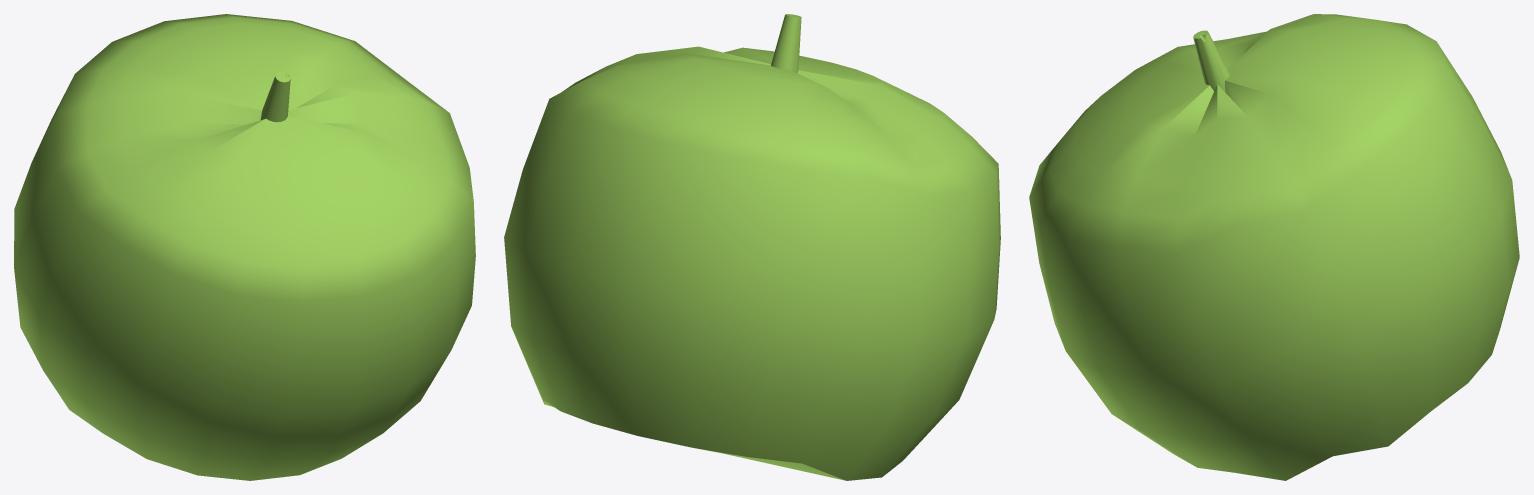
File: Apple.fbx
3 renders of one model, left to right at view 1: azimuth 30°, elevation 25°; view 2: azimuth 150°, elevation 25°; view 3: azimuth 270°, elevation 25°, orthographic. The views are drawn at different scales.
Visible parts, largest first — view 1: Apple12; view 2: Apple12; view 3: Apple12.
Part boxes in pixels (x1=…): Apple12: x1=14, y1=14, x2=475, y2=480; Apple12: x1=504, y1=14, x2=1000, y2=480; Apple12: x1=1029, y1=14, x2=1519, y2=480.
Size of the model in its own units: 0.1825 by 0.1671 by 0.185.
